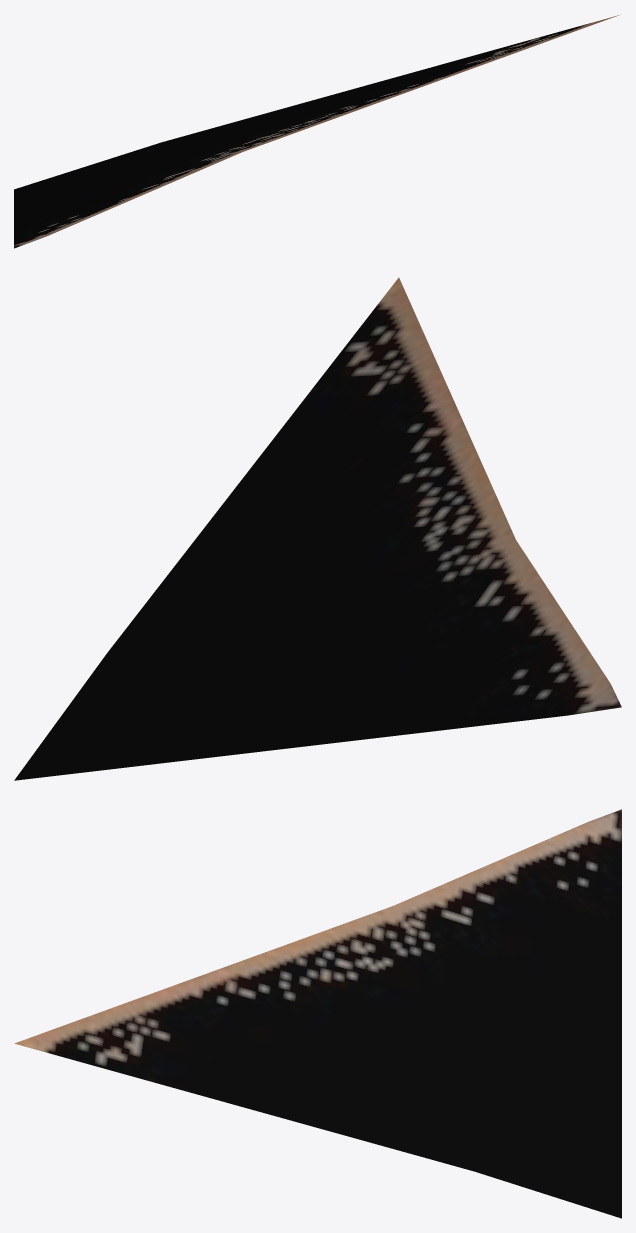
3 renders of one model, top to bottom at view 1: azimuth 90°, elevation 25°; view 2: azimuth 150°, elevation 25°; view 3: azimuth 270°, elevation 25°, orthographic. The views are drawn at different scales.
Bounding box in the file's own units: 0.5327 × 0.1857 × 0.5842.
1 material, 1 textured.
